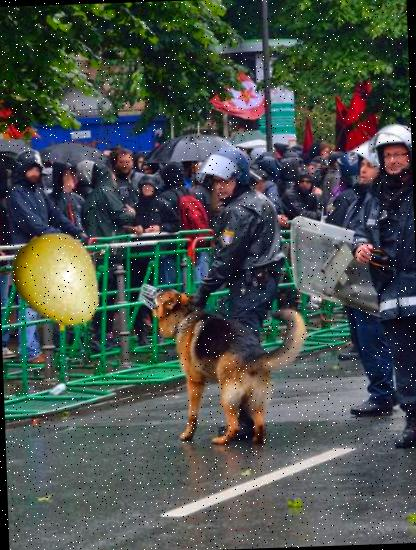Pear: (5, 228, 113, 336)
